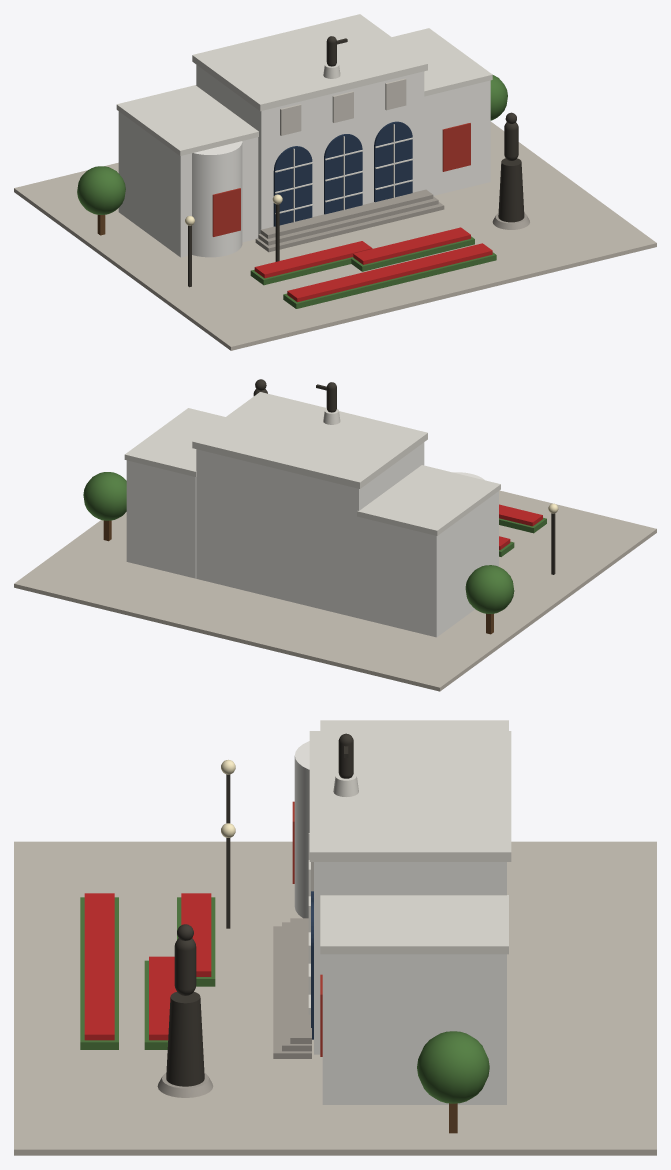
The model's file is theatre.glb.
3 renders of one model, top to bottom at view 1: azimuth 30°, elevation 25°; view 2: azimuth 150°, elevation 25°; view 3: azimuth 270°, elevation 25°, orthographic. The views are drawn at different scales.
Parts seen in each view (by area): view 1: Театральная площадь, Карниз, Центральный корпус, Левое крыло, Арка (×3), Тюльпаны (×3), object 27, Правое крыло, Ступени (×3), Башня, Клумба (×3), object 29 (+6 smaller); view 2: Театральная площадь, Центральный корпус, Левое крыло, Карниз, Правое крыло, object 27, object 29, object 50, object 52, Тюльпаны; view 3: Театральная площадь, Карниз, Правое крыло, object 29, Тюльпаны (×3), Центральный корпус, Ступени (×3), object 52, Клумба (×3), Постамент Пушкина, Башня, object 27 (+3 smaller).
Part boxes in pixels (x1=…): Театральная площадь: x1=14, y1=121, x2=656, y2=350; Карниз: x1=192, y1=14, x2=427, y2=111; Центральный корпус: x1=196, y1=65, x2=424, y2=234; Левое крыло: x1=118, y1=111, x2=258, y2=257; Арка (×3): x1=273, y1=121, x2=412, y2=226; Тюльпаны (×3): x1=254, y1=227, x2=492, y2=302; object 27: x1=116, y1=85, x2=258, y2=155; Правое крыло: x1=424, y1=80, x2=490, y2=195; Ступени (×3): x1=255, y1=189, x2=444, y2=252; Башня: x1=192, y1=141, x2=242, y2=257; Клумба (×3): x1=250, y1=236, x2=496, y2=308; object 29: x1=392, y1=28, x2=492, y2=96; Театральная площадь: x1=14, y1=490, x2=656, y2=691; Центральный корпус: x1=196, y1=442, x2=424, y2=618; Левое крыло: x1=359, y1=491, x2=498, y2=637; Карниз: x1=192, y1=392, x2=427, y2=488; Правое крыло: x1=126, y1=460, x2=196, y2=578; object 27: x1=357, y1=465, x2=500, y2=535; object 29: x1=124, y1=408, x2=225, y2=476; object 50: x1=465, y1=565, x2=514, y2=613; object 52: x1=83, y1=472, x2=126, y2=520; Тюльпаны: x1=499, y1=504, x2=542, y2=526; Театральная площадь: x1=14, y1=841, x2=656, y2=1155; Карниз: x1=309, y1=731, x2=511, y2=861; Правое крыло: x1=322, y1=954, x2=506, y2=1104; object 29: x1=320, y1=895, x2=508, y2=954; Тюльпаны (×3): x1=84, y1=893, x2=211, y2=1040; Центральный корпус: x1=314, y1=862, x2=506, y2=1054; Ступени (×3): x1=273, y1=918, x2=311, y2=1058; object 52: x1=417, y1=1031, x2=489, y2=1103; Клумба (×3): x1=80, y1=897, x2=215, y2=1049; Постамент Пушкина: x1=166, y1=992, x2=204, y2=1086; Башня: x1=294, y1=741, x2=309, y2=918; object 27: x1=320, y1=720, x2=508, y2=730.
Size of the model in its own units: 3.42 by 1.38 by 3.
